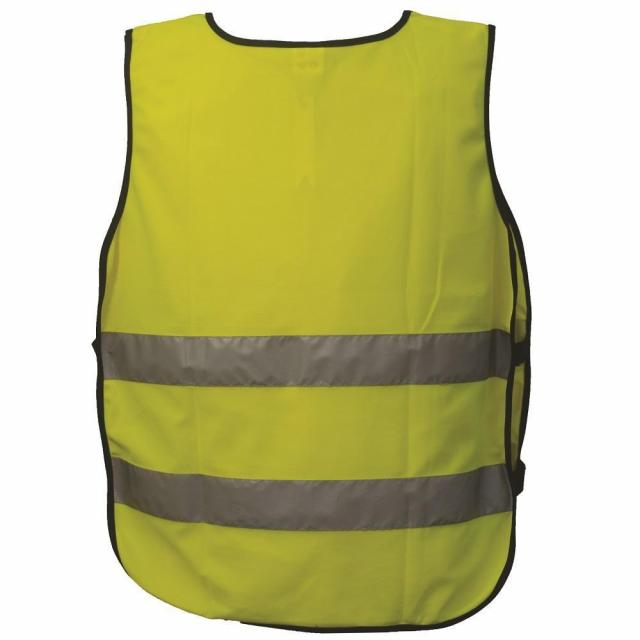vest: (90, 9, 532, 632)
